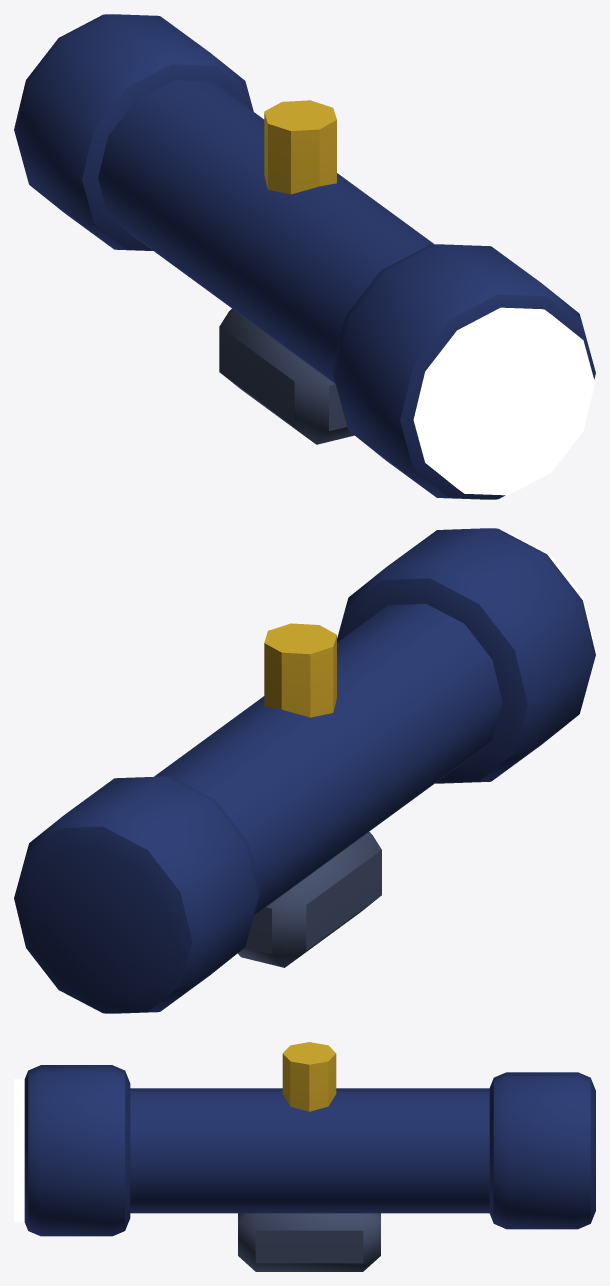
File: mod_scope.glb
3 renders of one model, top to bottom at view 1: azimuth 30°, elevation 25°; view 2: azimuth 150°, elevation 25°; view 3: azimuth 270°, elevation 25°, orthographic. The views are drawn at different scales.
Visible parts, largest first — view 1: body, lens_glow; view 2: body; view 3: body, lens_glow.
Part boxes in pixels (x1,y1,x2,y2): body: [14, 14, 595, 499]; lens_glow: [413, 307, 594, 495]; body: [14, 528, 595, 1013]; body: [24, 1042, 595, 1271]; lens_glow: [14, 1079, 24, 1221].
Size of the model in its own units: 0.096 by 0.13 by 0.325.
